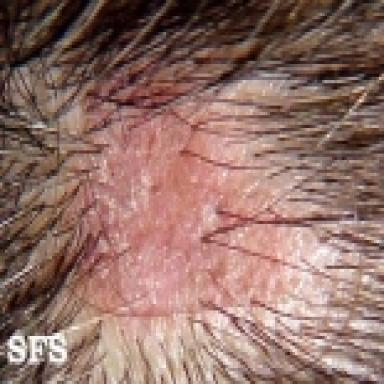Lupus-Erythematosus-Chronicus-Discoides: (75, 60, 291, 316)
